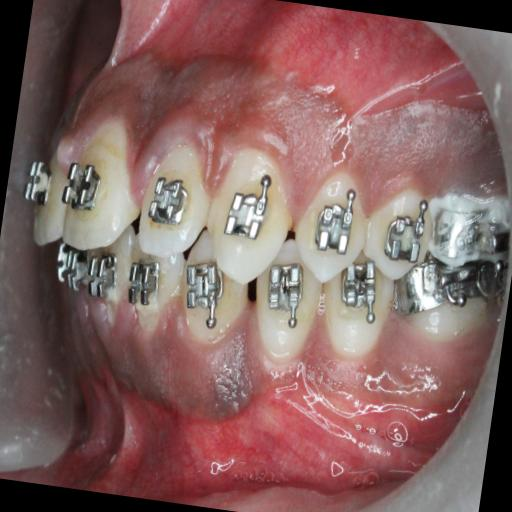correct_brace: (286, 172, 376, 296), (222, 180, 276, 248), (142, 170, 195, 232), (61, 152, 106, 217)
incorrect_brace: (132, 138, 220, 270), (310, 207, 355, 258)
